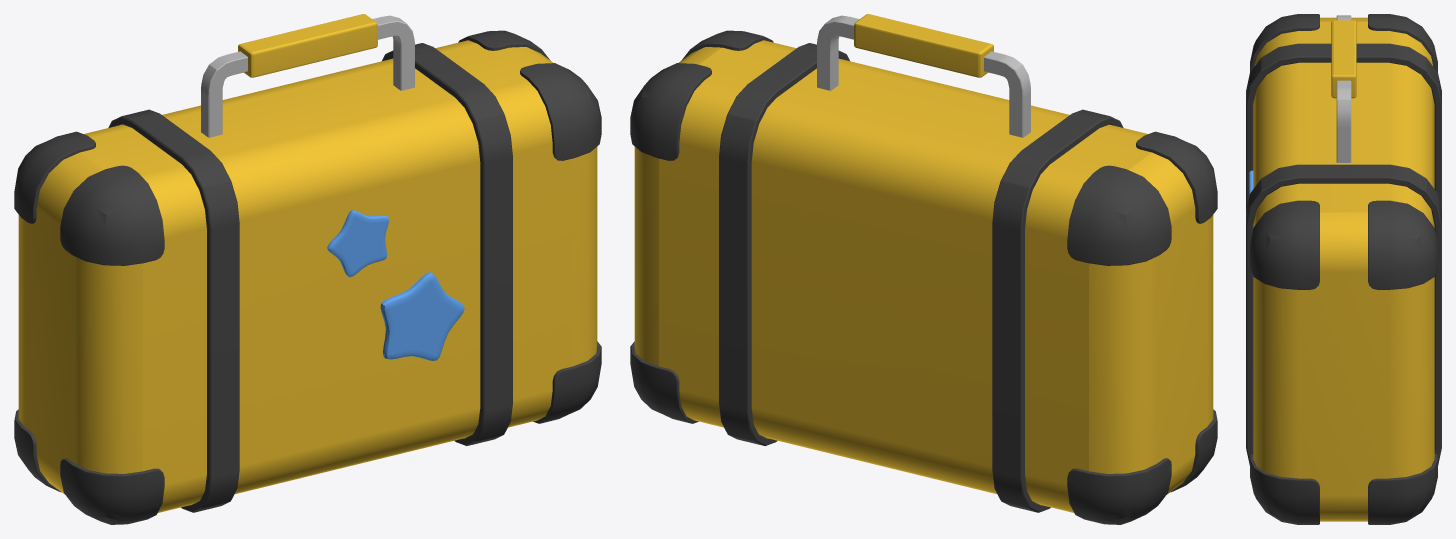
3 views of the same model, side by side, from view 1: azimuth 30°, elevation 25°; view 2: azimuth 150°, elevation 25°; view 3: azimuth 270°, elevation 25° (orthographic). The views are drawn at different scales.
Visible parts, largest first — view 1: l5; view 2: l5; view 3: l5.
Part boxes in pixels (box(x1,y1,x2,y2)): l5: box(14, 14, 601, 524); l5: box(630, 14, 1217, 524); l5: box(1246, 14, 1441, 524).
Bounding box in the file's own units: 148 × 114 × 53.04.
1 material, 1 textured.
